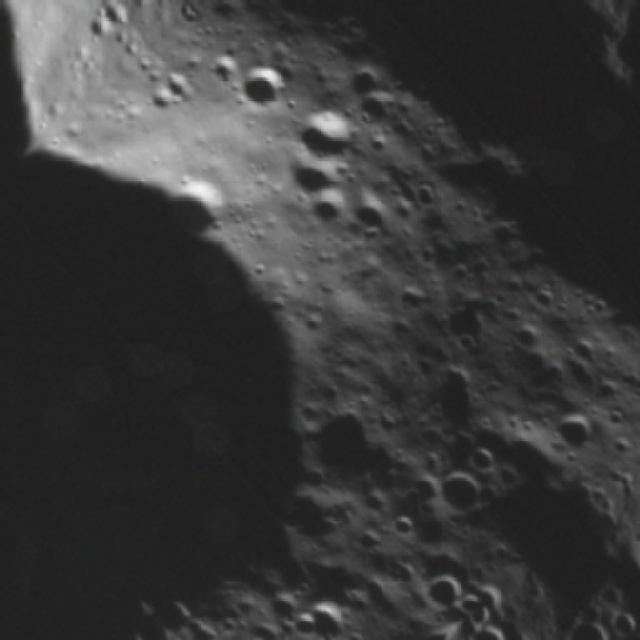crater: (429, 459, 497, 527), (296, 105, 362, 169), (551, 394, 614, 458), (235, 56, 298, 119), (419, 556, 483, 618), (291, 587, 360, 640), (470, 438, 510, 478)
